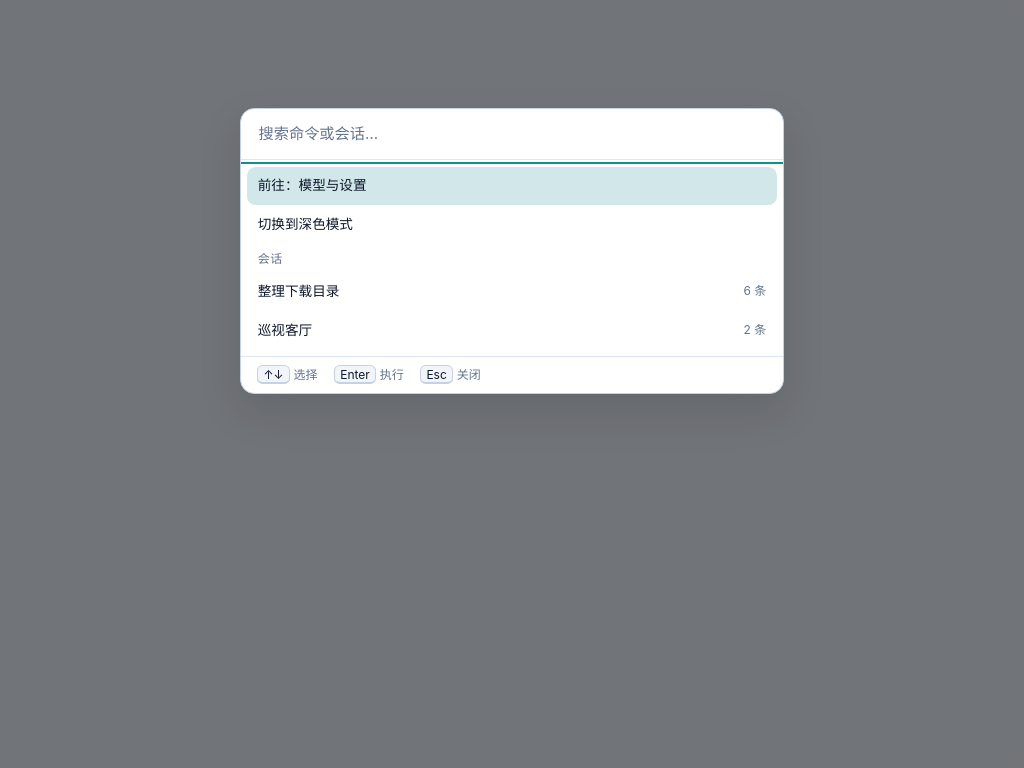
CommandPalette › filters commands by query
Type "深色" into the field labelled "搜索命令或会话" at point(512, 134), box [241, 108, 783, 160]
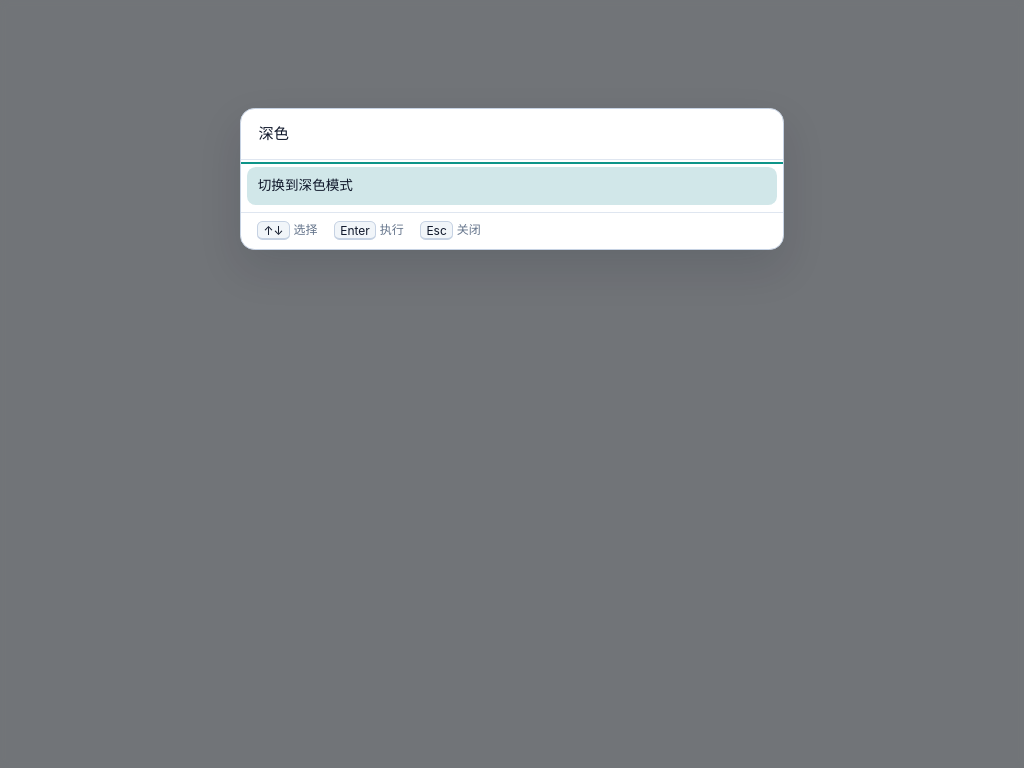
Expected: the option "切换到深色模式" is shown, [247, 167, 777, 205]
Expected: the option "模型与设置" is gone
